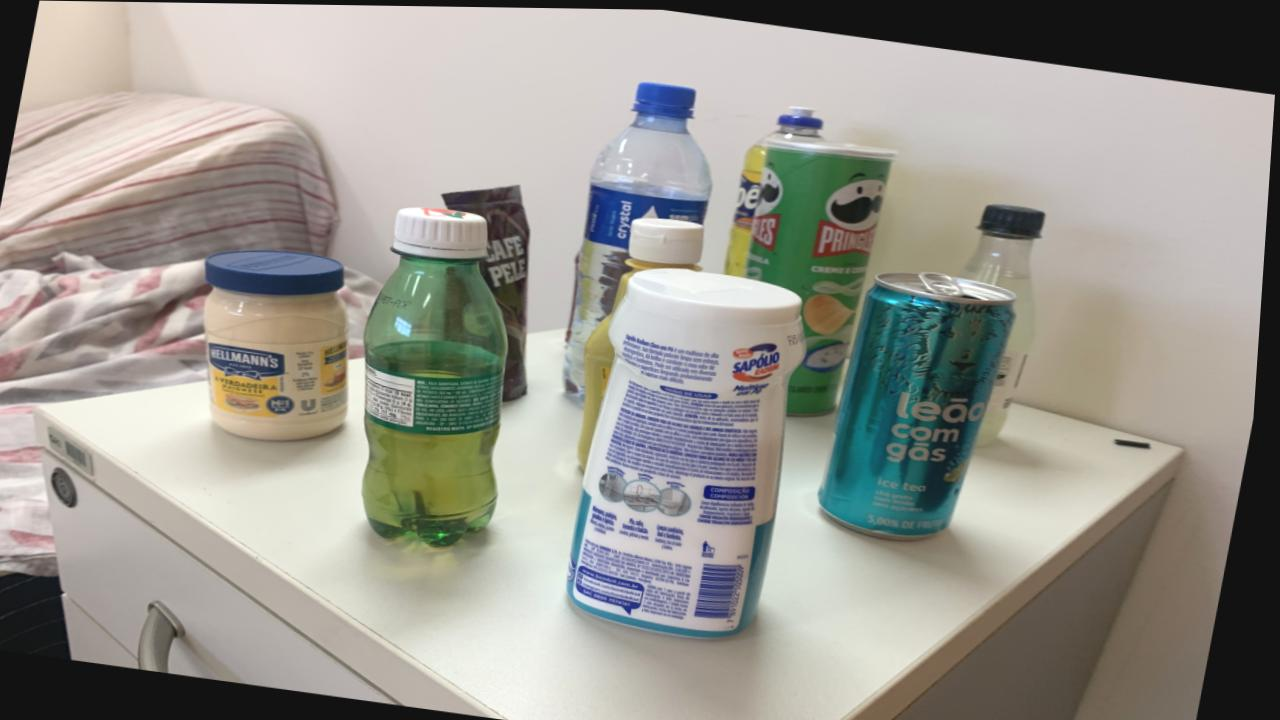Cleaner-Cleanup_Items: (575, 267, 810, 635)
Coffee-Pantry_Items: (445, 184, 534, 399)
Detergent-Cleanup_Items: (727, 104, 824, 274)
Guarana-Drinks: (368, 206, 513, 546)
Mayonnaise-Pantry_Items: (207, 249, 354, 440)
Mustard-Pantry_Items: (583, 215, 708, 466)
Pringles-Snacks: (749, 136, 897, 414)
Soda-Drinks: (963, 201, 1047, 443)
Tea-Drinks: (825, 269, 1020, 537)
Water_Bottle-Drinks: (568, 80, 715, 395)
